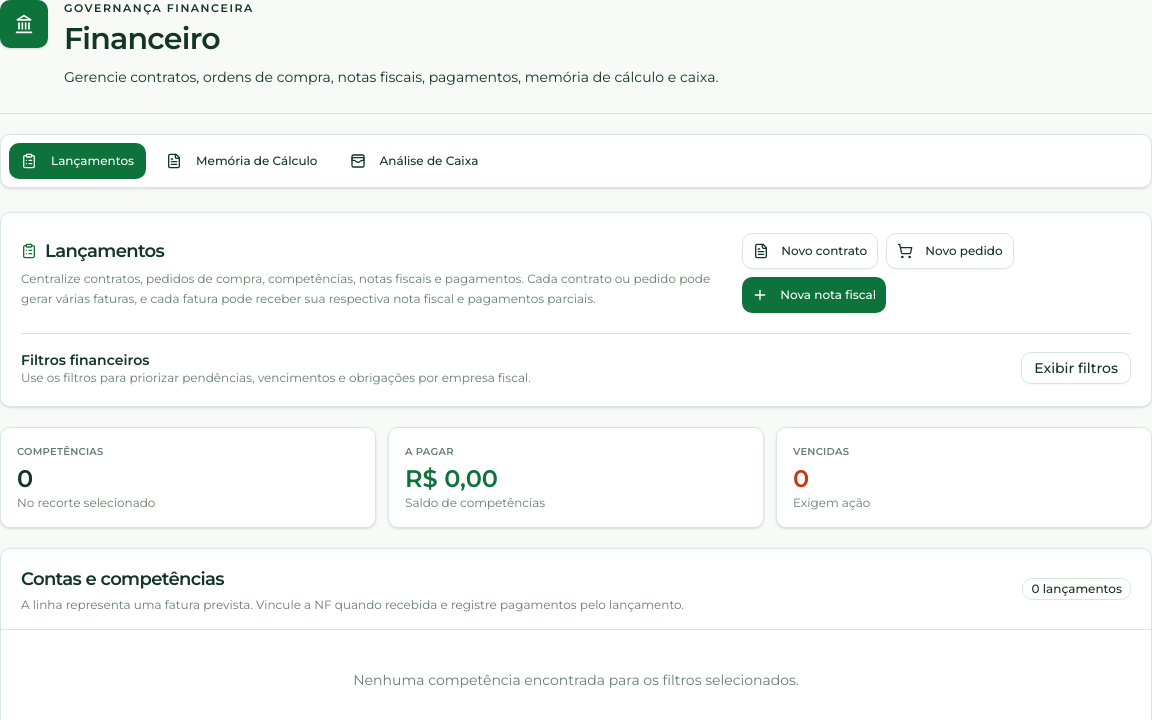
Scenario: previsões operacionais no financeiro › preenche uma nota a partir do investimento previsto de mídia
This screenshot has width=1152, height=720.
Click the button "Análise de Caixa" at (414, 160), box x1=338 y1=142 x2=490 y2=178
(page scrolled)
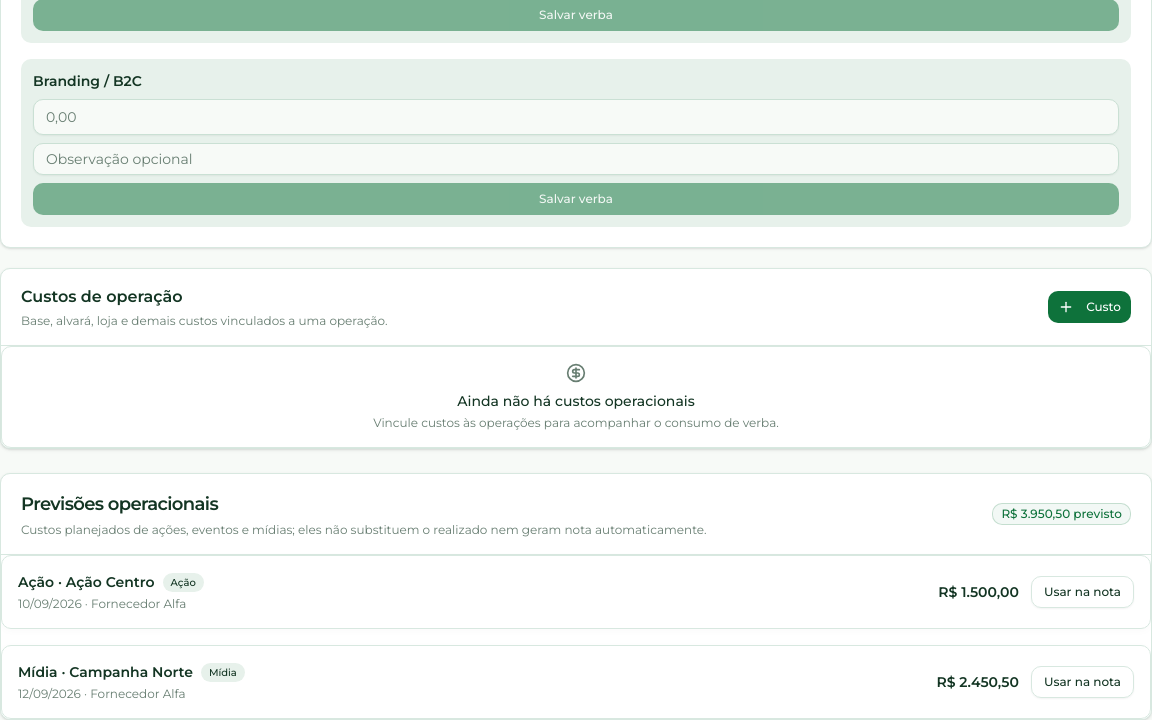
Now the text "Mídia · Campanha Norte" is shown, box x1=18 y1=662 x2=193 y2=682
Click the button "Usar na nota" next to "R$ 2.450,50" at (1082, 682), box x1=1031 y1=666 x2=1134 y2=698
(page scrolled)
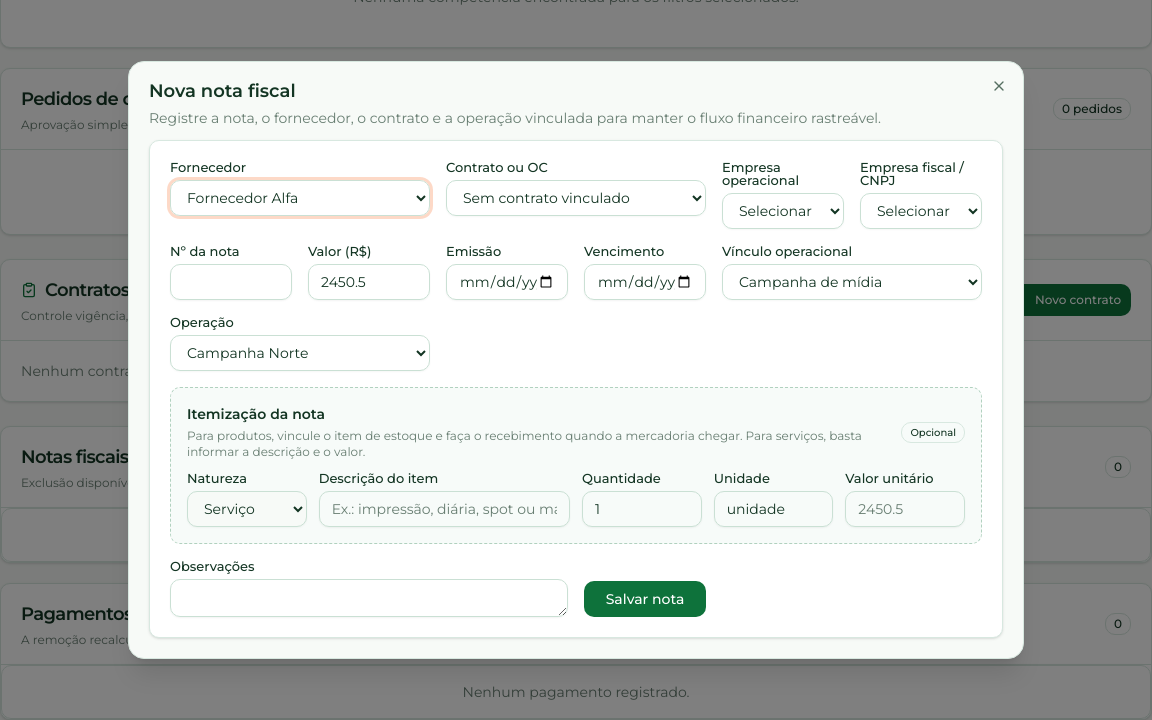
Now the form labelled "Nº da nota" is shown, box x1=149 y1=140 x2=1003 y2=638
Now the dropdown labelled "Fornecedor" shows "Fornecedor Alfa", box x1=170 y1=180 x2=430 y2=216
Now the number field labelled "Valor (R$)" holds "2450.5", box x1=308 y1=264 x2=430 y2=300
